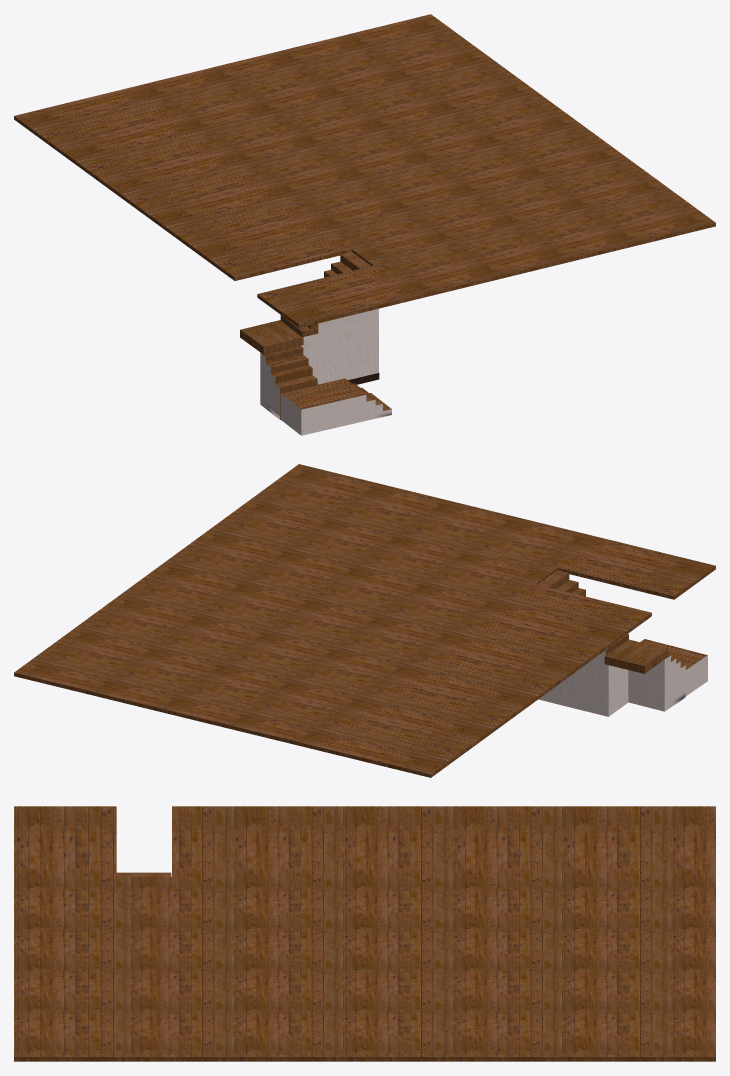
Rendered from replacements_b.fbx.
3 renders of one model, top to bottom at view 1: azimuth 30°, elevation 25°; view 2: azimuth 150°, elevation 25°; view 3: azimuth 270°, elevation 25°, orthographic. The views are drawn at different scales.
Visible parts, largest first — view 1: floor, step1, stairpiece, step2, stepout2, step3; view 2: floor, stairpiece, step2, stepout2, step1, step4; view 3: floor.
Part boxes in pixels (x1,y1,x2,y2): floor: (14,14,715,327); step1: (280,378,391,435); stairpiece: (301,320,376,384); step2: (260,345,317,419); stepout2: (240,320,303,354); step3: (280,309,375,337); floor: (14,464,715,777); stairpiece: (538,654,628,716); step2: (628,654,685,711); stepout2: (604,639,668,673); step1: (640,639,707,695); step4: (538,570,585,596); floor: (14,806,715,1061).
Size of the model in its own units: 281 by 74.17 by 333.
